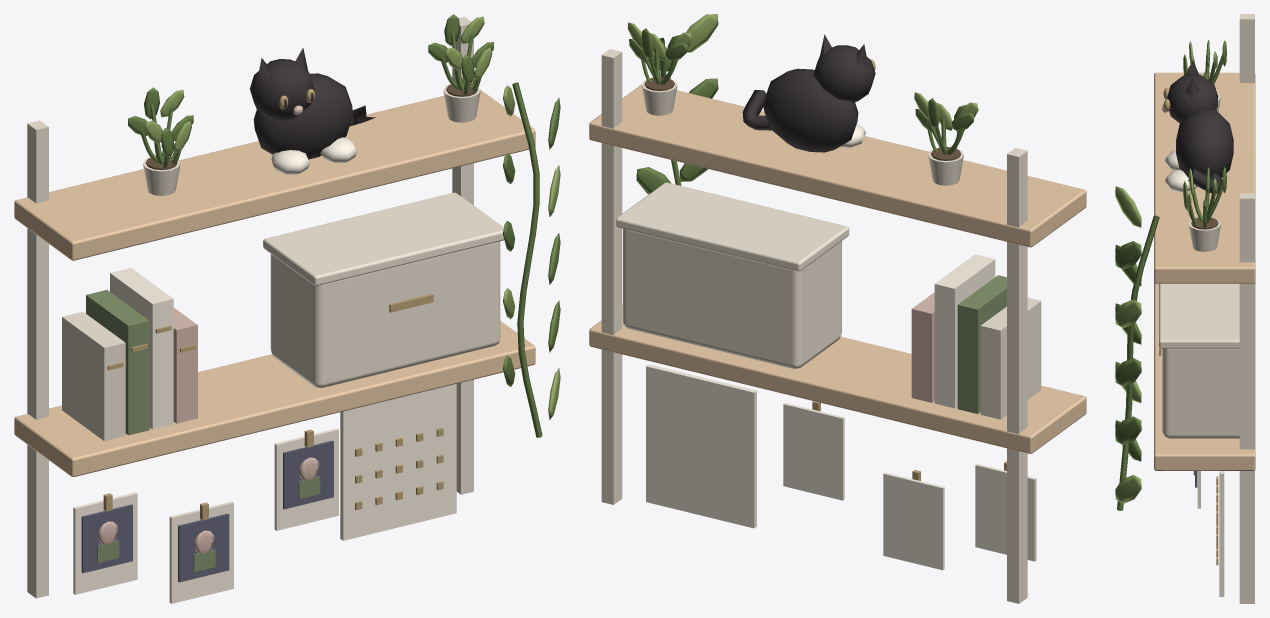
Rendered from bedroom_ref_wall_rack.glb.
3 views of the same model, side by side, from view 1: azimuth 30°, elevation 25°; view 2: azimuth 150°, elevation 25°; view 3: azimuth 270°, elevation 25° (orthographic). The views are drawn at different scales.
Size of the model in its own units: 1.69 by 1.78 by 0.4969.
